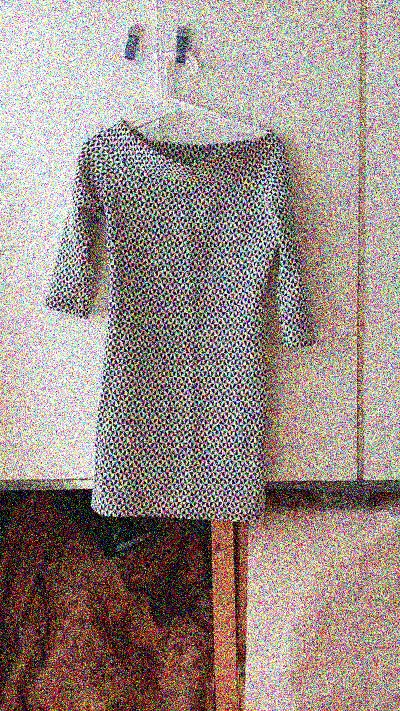Dress: (53, 119, 330, 533)
